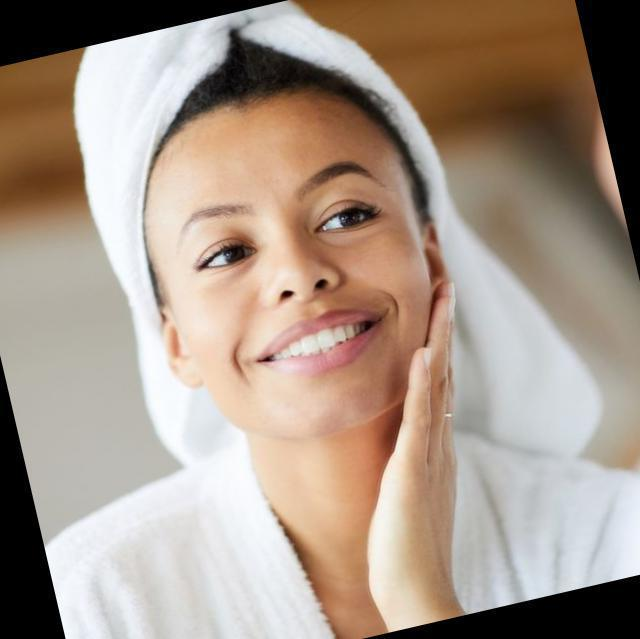Sober: (163, 113, 414, 409)
